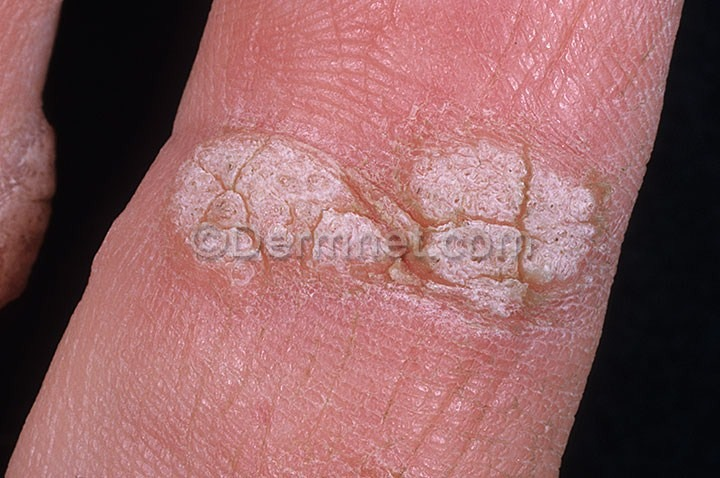Warts: (408, 139, 531, 224)
